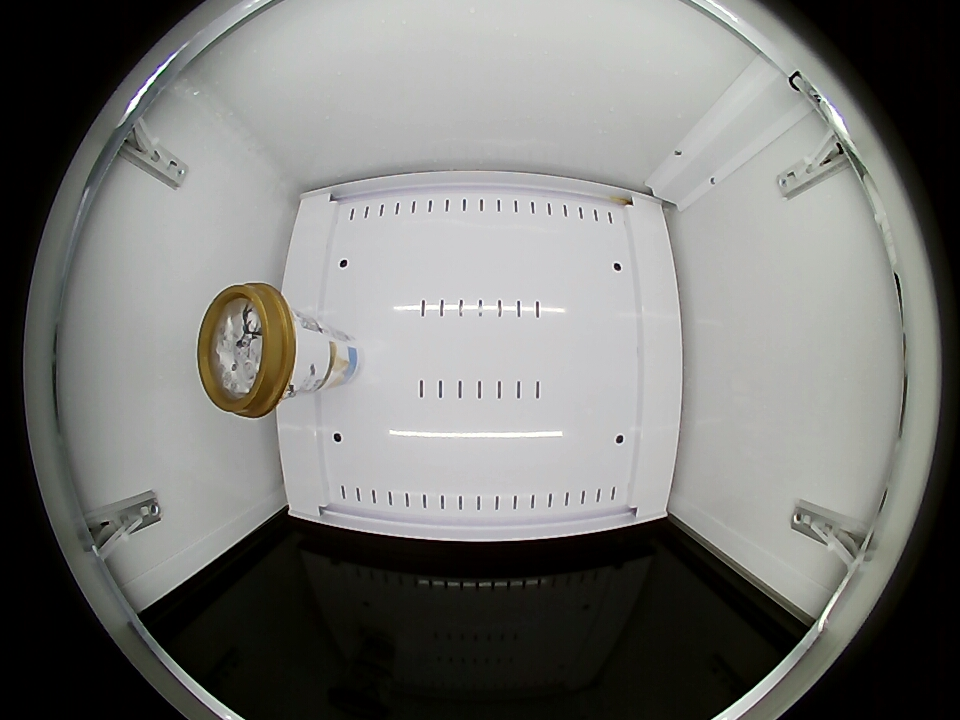lujiaoxiang: (198, 283, 305, 418)
